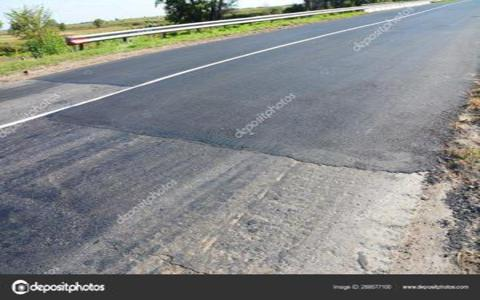Proper road: (228, 37, 443, 140)
